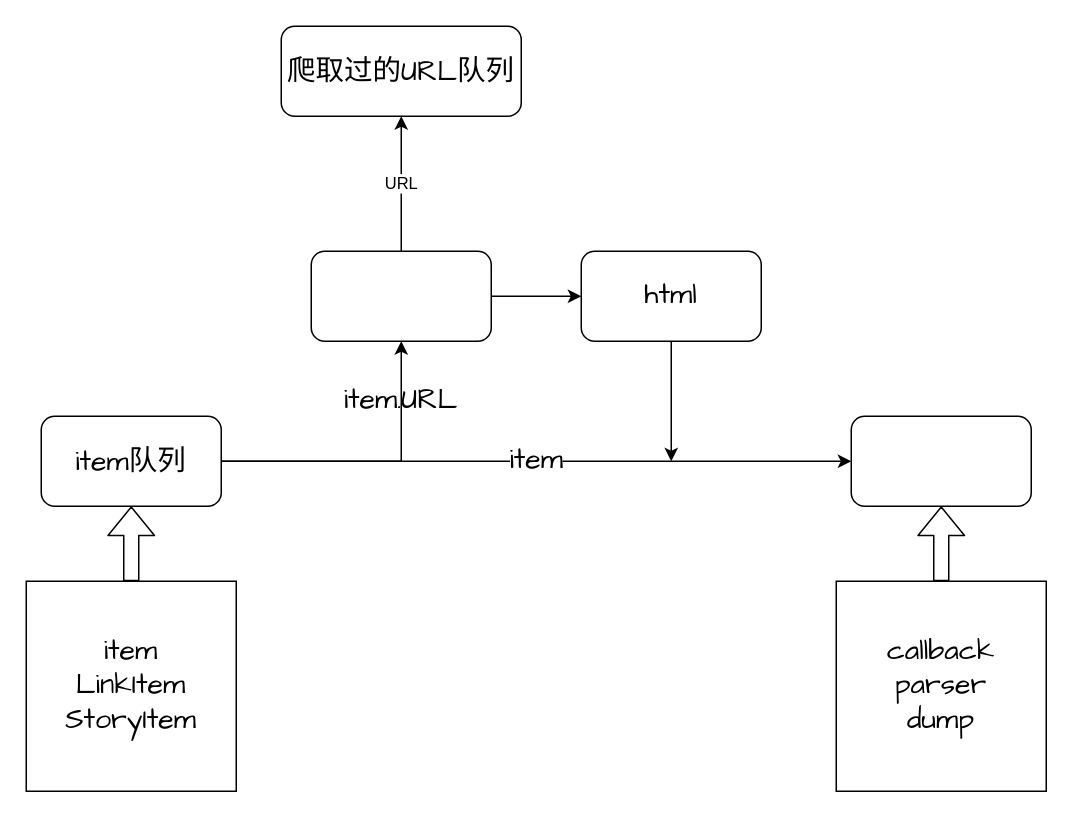
Some shapes in this 1073 by 818 pixel diagram are drawn without their labels. The centre of each missing label's shape, as x and y in pixels:
callback 函数: [940,460]
spider: [400,295]
